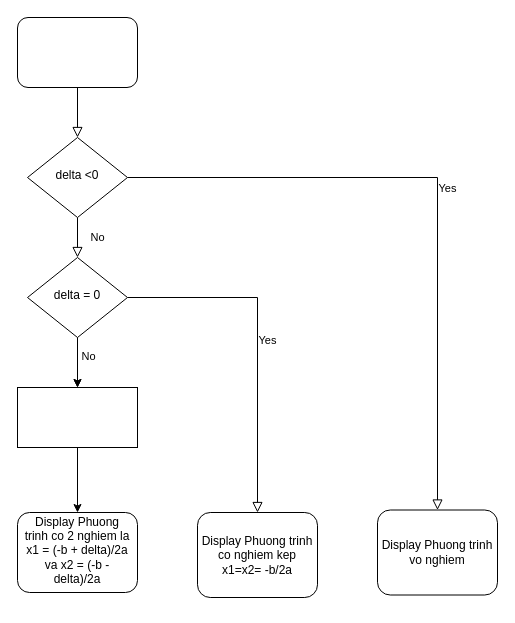
Image size: 515x623. Some labels were removed from this diagram. The centre of each missing label's shape, as x and y in pixels:
"delta > 0" goes at (77,417).
"Input a, b, c, x1, x2, delta = b*b - 4ac" goes at (77,52).
